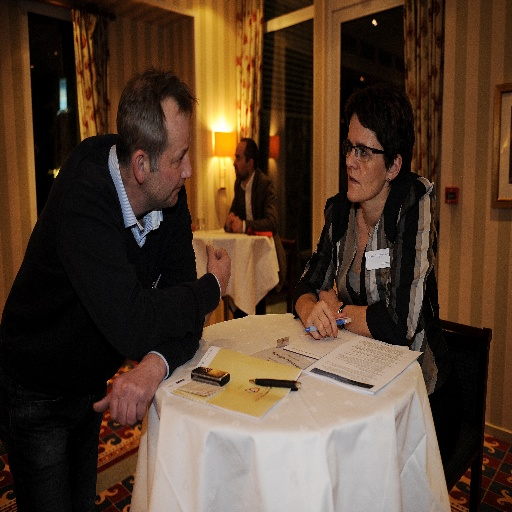hand: (95, 347, 174, 427), (303, 297, 347, 339), (204, 242, 232, 295), (318, 286, 341, 322), (230, 215, 242, 231), (225, 213, 234, 230)
